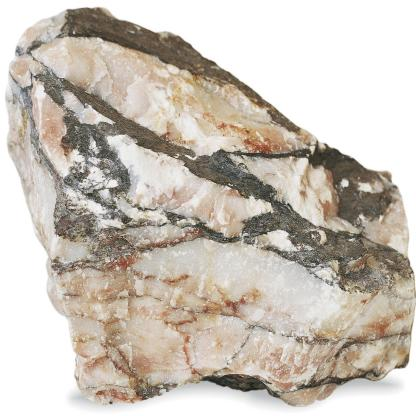Metamorphic_Marble: (5, 5, 406, 407)
